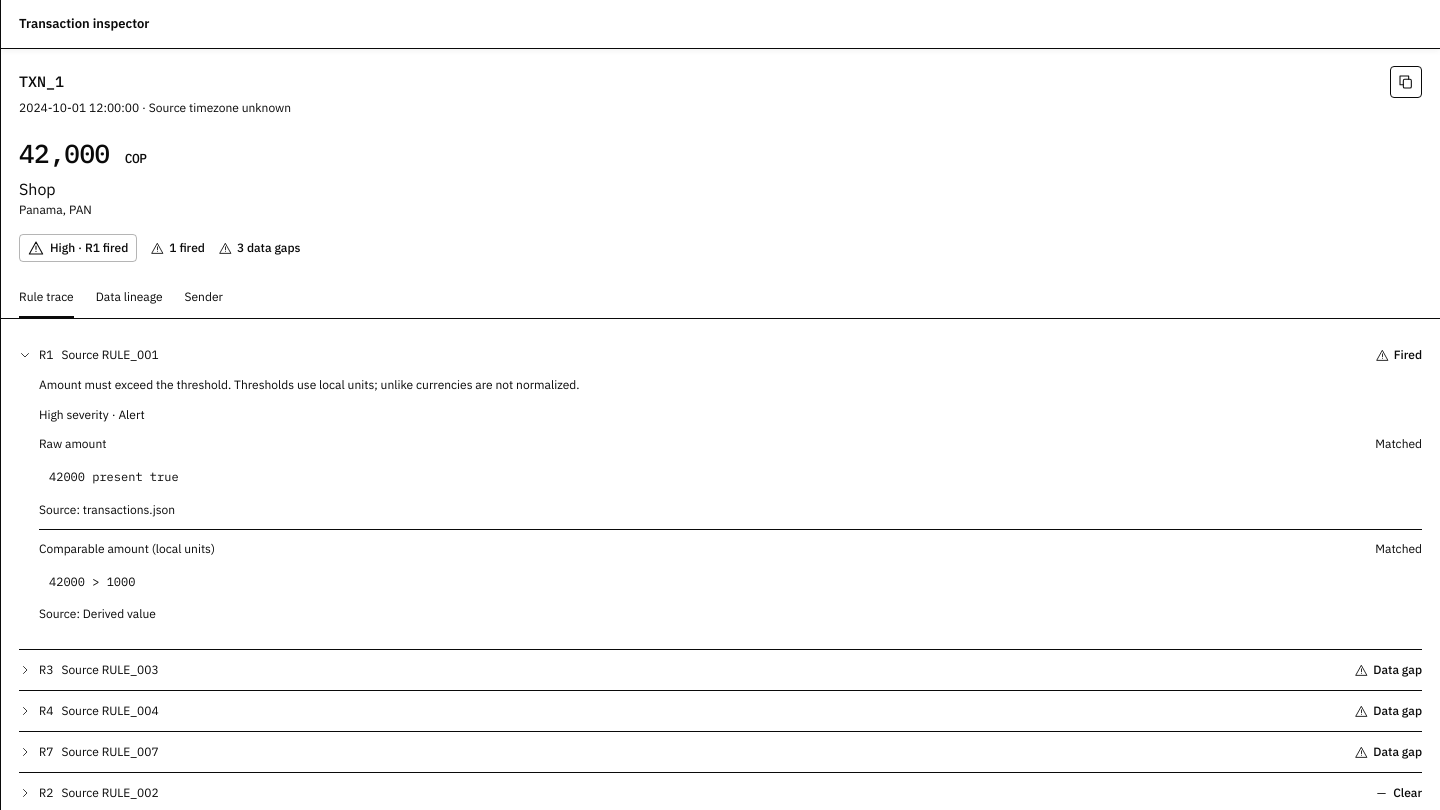
it: forensic inspector › does not manufacture missing features or sender baselines
The image size is (1440, 810).
Click the tab "Data lineage": [129, 298] box [96, 278, 162, 318]
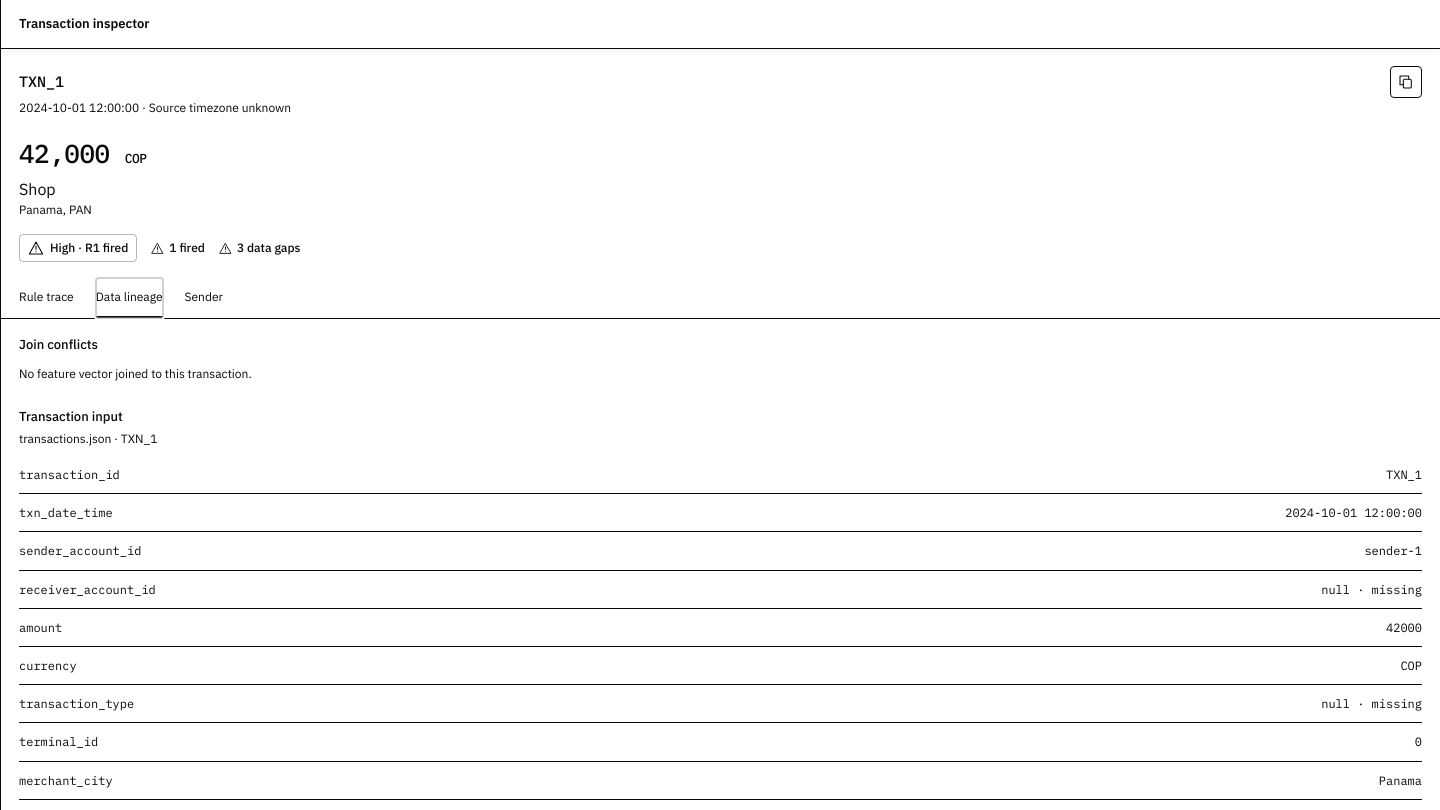
Now the text "No feature vector joined to this transaction." is shown, box [19, 366, 252, 380]
Click the tab "Sender": [204, 298] box [185, 278, 223, 318]
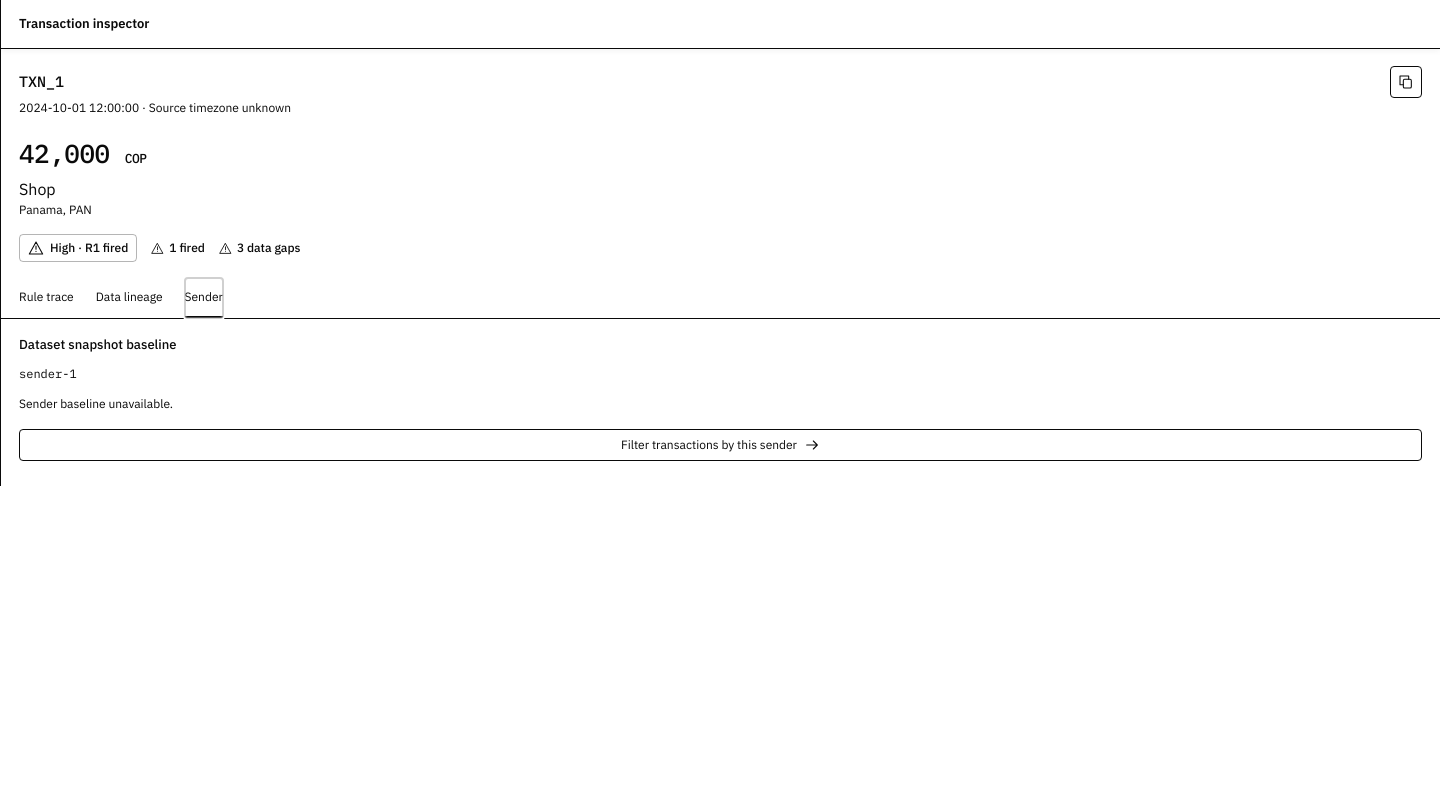
Now the text "Sender baseline unavailable." is shown, box [19, 396, 173, 410]
Now the button "Filter transactions by this sender" is enabled, box [19, 428, 1422, 460]
